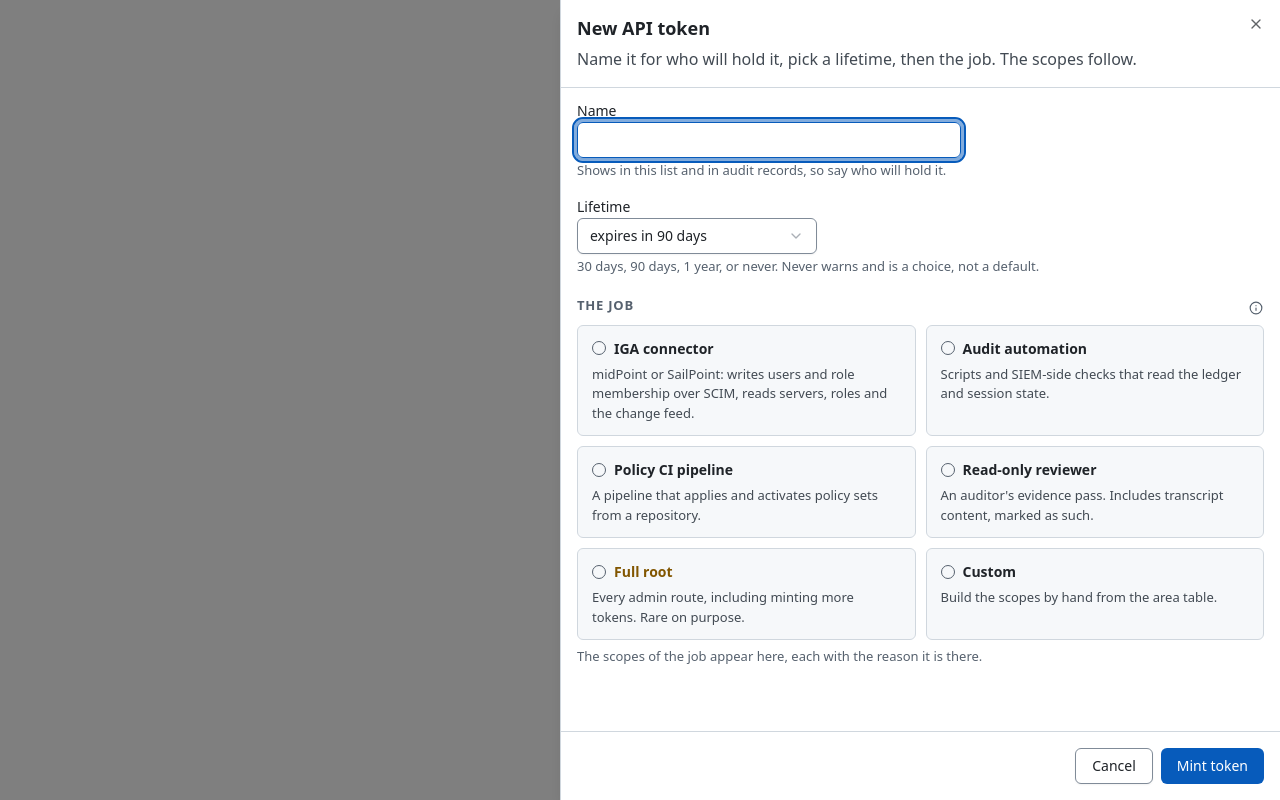
it: the mint sheet › checks the name against the tokens already on screen, as it is typed
Type "midpoint" into the field labelled "Name" at [769, 140], box [577, 122, 961, 158]
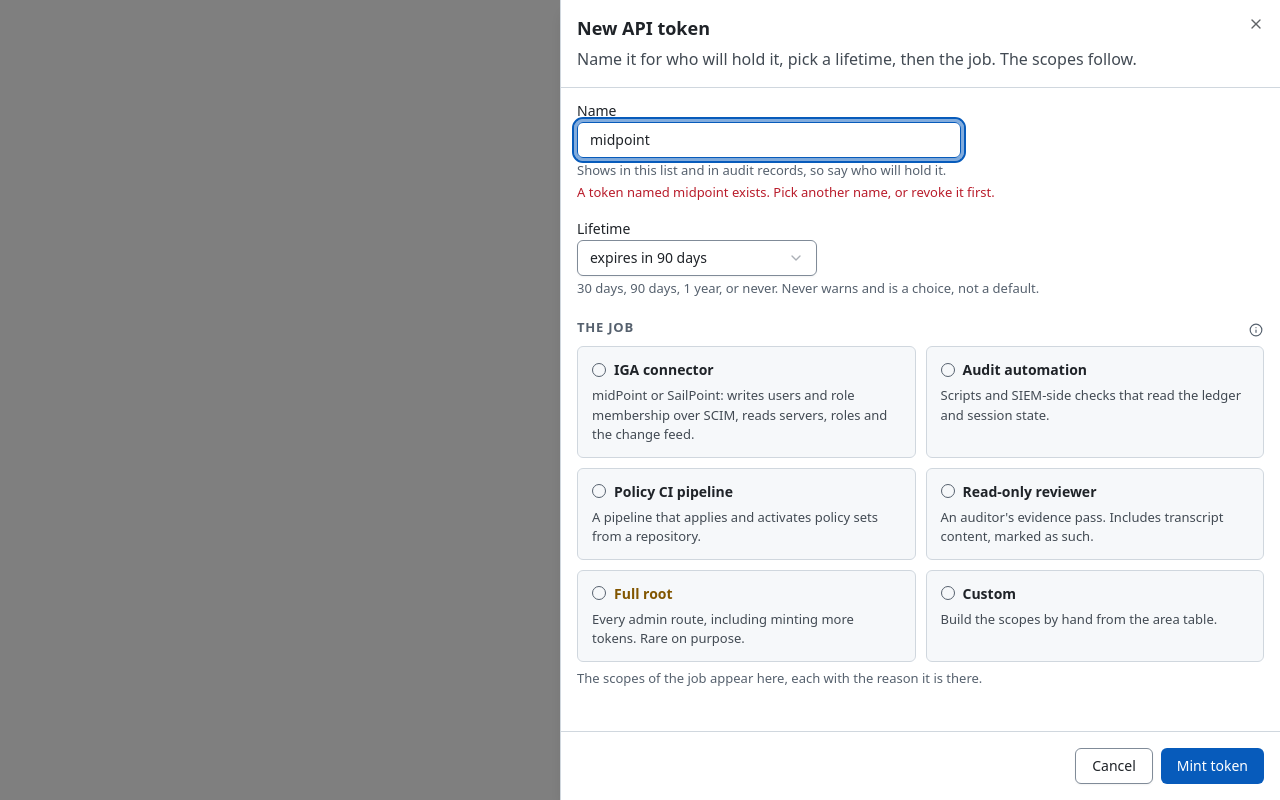
Replace the text in the field labelled "Name" with "sailpoint" at [769, 140], box [577, 122, 961, 158]
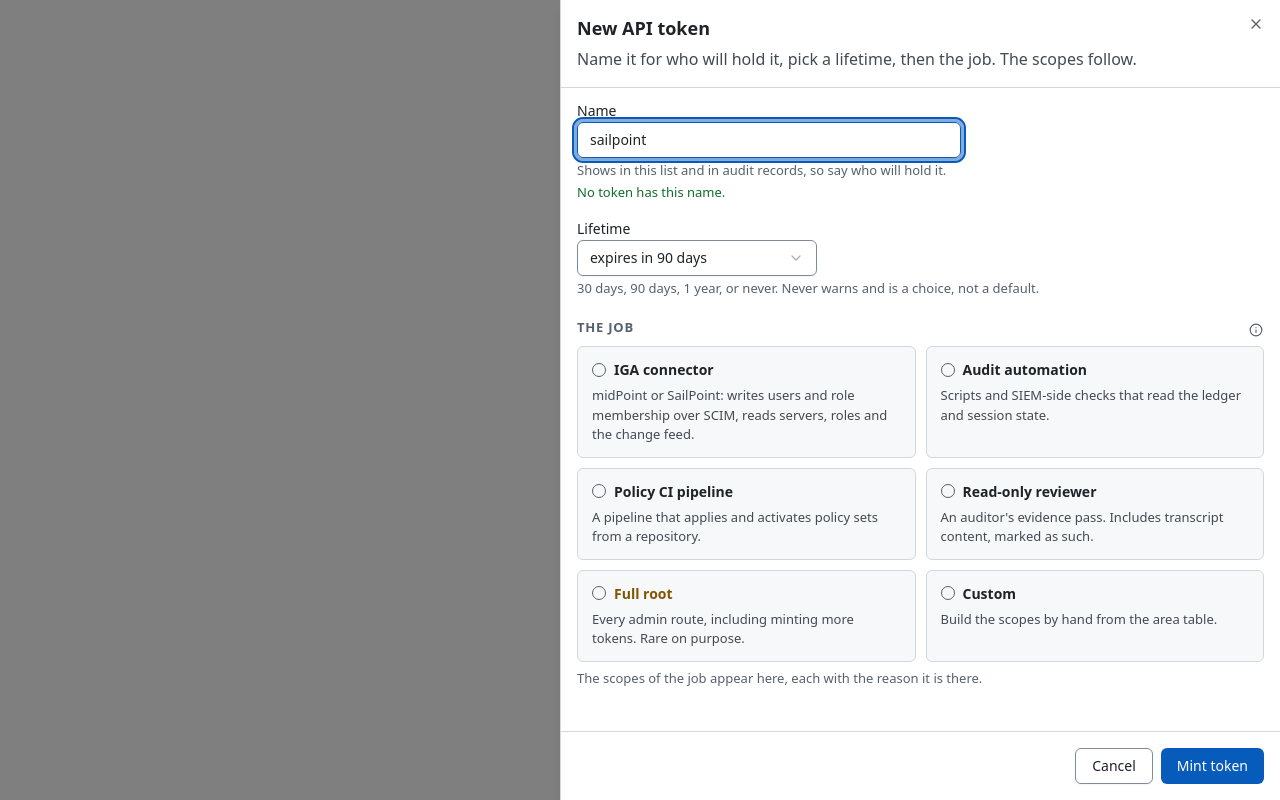
Expected: the text "No token has this name." is shown, [577, 183, 725, 201]
